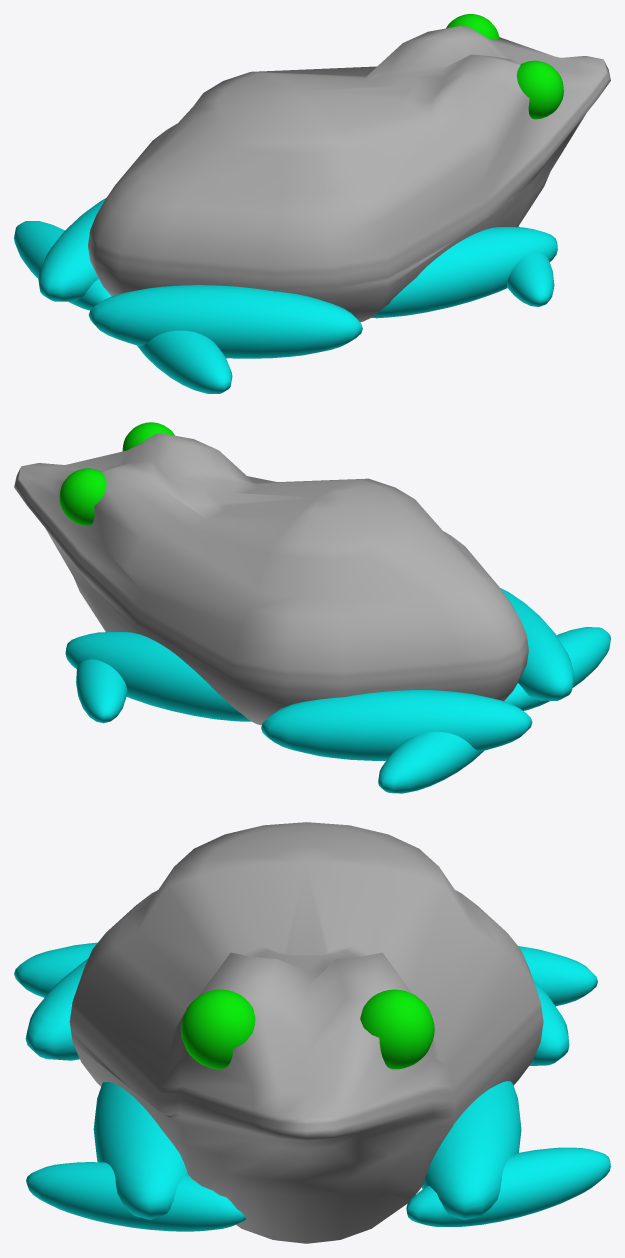
The model's file is memefrog.fbx.
The picture shows the model from 3 angles, top to bottom: view 1: azimuth 30°, elevation 25°; view 2: azimuth 150°, elevation 25°; view 3: azimuth 270°, elevation 25°; orthographic projection. The views are drawn at different scales.
Parts seen in each view (by area): view 1: pSphere1, pSphere6, pSphere5, pSphere9, pSphere7, pSphere8, pSphere12, pSphere10, pSphere3; view 2: pSphere1, pSphere7, pSphere4, pSphere8, pSphere6, pSphere11, pSphere9, pSphere3, pSphere12; view 3: pSphere1, pSphere4, pSphere5, pSphere10, pSphere11, pSphere12, pSphere3, pSphere6, pSphere8, pSphere9, pSphere7.
Boxes of the visible parts, x1,y1,x2,y2 form: pSphere1: [88, 26, 610, 322]; pSphere6: [88, 285, 362, 358]; pSphere5: [370, 227, 557, 318]; pSphere9: [137, 330, 232, 393]; pSphere7: [38, 198, 105, 301]; pSphere8: [14, 221, 111, 310]; pSphere12: [516, 60, 563, 119]; pSphere10: [507, 226, 554, 306]; pSphere3: [446, 14, 499, 39]; pSphere1: [14, 433, 528, 725]; pSphere7: [261, 690, 532, 760]; pSphere4: [65, 632, 251, 721]; pSphere8: [378, 731, 483, 793]; pSphere6: [500, 588, 574, 700]; pSphere11: [76, 659, 127, 723]; pSphere9: [504, 627, 610, 710]; pSphere3: [59, 468, 106, 525]; pSphere12: [122, 422, 174, 451]; pSphere1: [69, 822, 543, 1243]; pSphere4: [421, 1081, 521, 1219]; pSphere5: [93, 1082, 188, 1219]; pSphere10: [26, 1162, 245, 1231]; pSphere11: [406, 1147, 610, 1226]; pSphere12: [181, 989, 255, 1069]; pSphere3: [360, 989, 434, 1069]; pSphere6: [25, 958, 88, 1060]; pSphere8: [518, 946, 597, 1006]; pSphere9: [14, 942, 97, 997]; pSphere7: [529, 980, 569, 1065].
Size of the model in its own units: 3.29 by 1.27 by 2.3.
